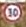limite 30: (1, 1, 23, 22)
